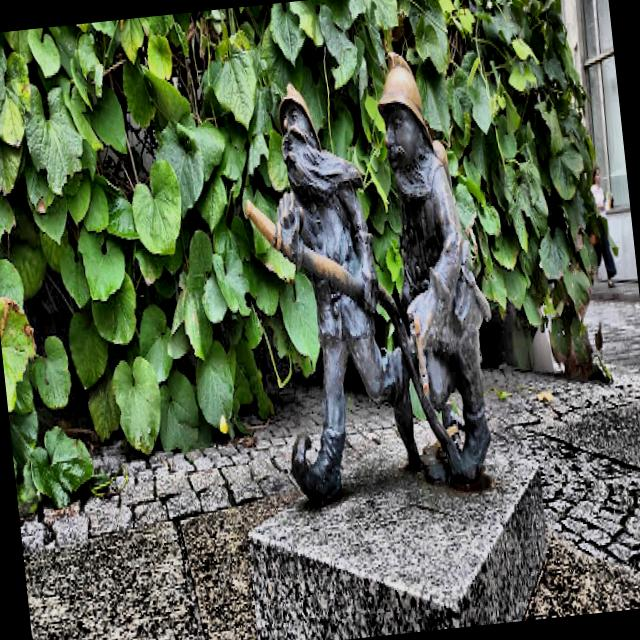Pozarki: (243, 52, 491, 502)
